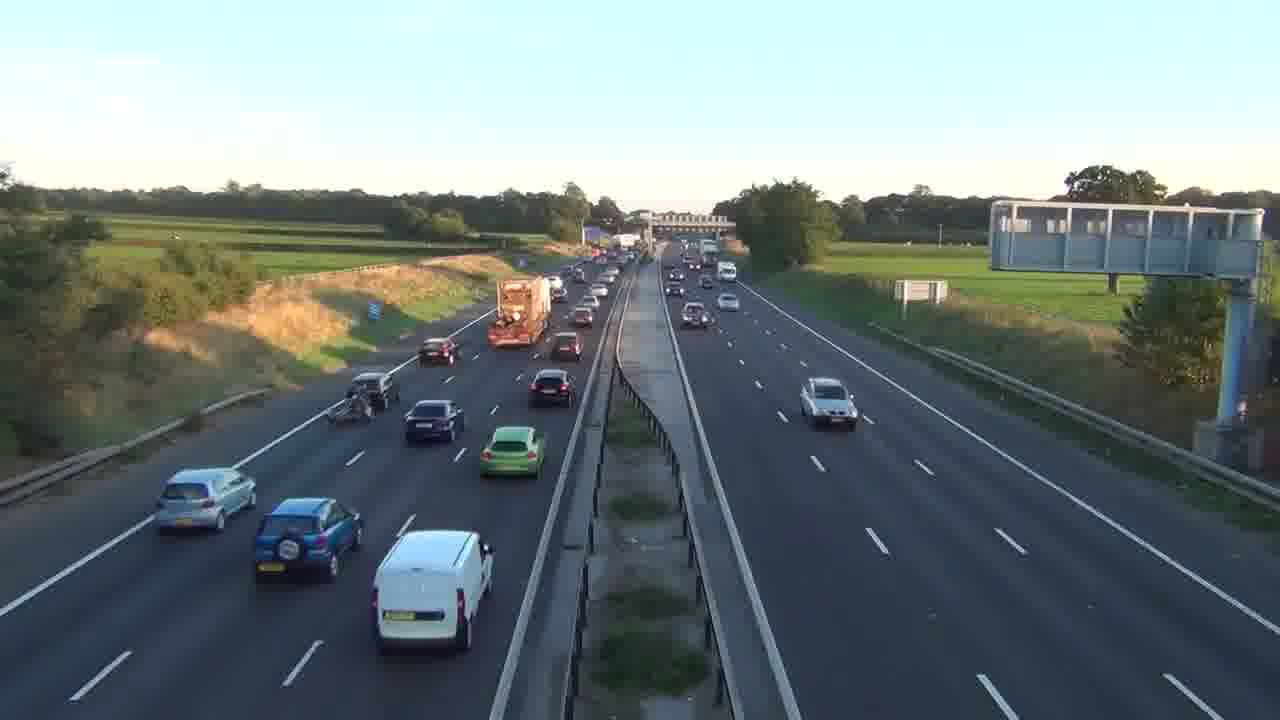car: (253, 496, 365, 583), (156, 466, 257, 533), (799, 376, 859, 429), (403, 399, 460, 443), (527, 368, 577, 407), (549, 331, 584, 363), (571, 305, 594, 328), (717, 292, 739, 310)
truck: (370, 527, 497, 653), (488, 276, 551, 349)
